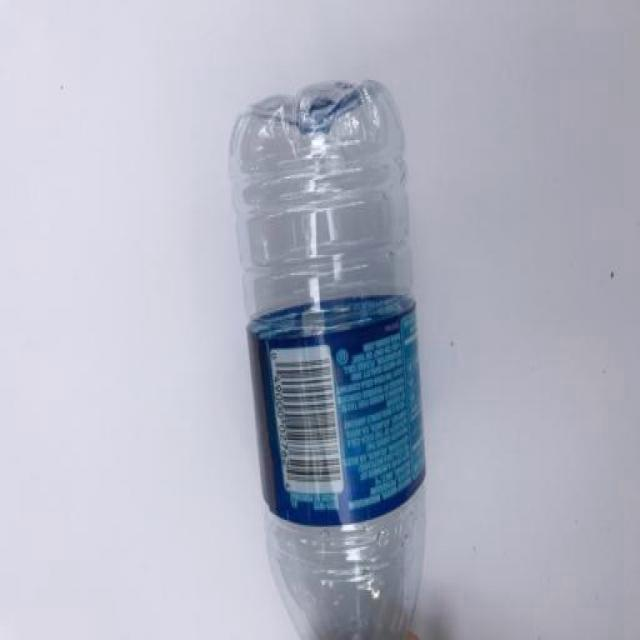bottle: (227, 79, 426, 640)
